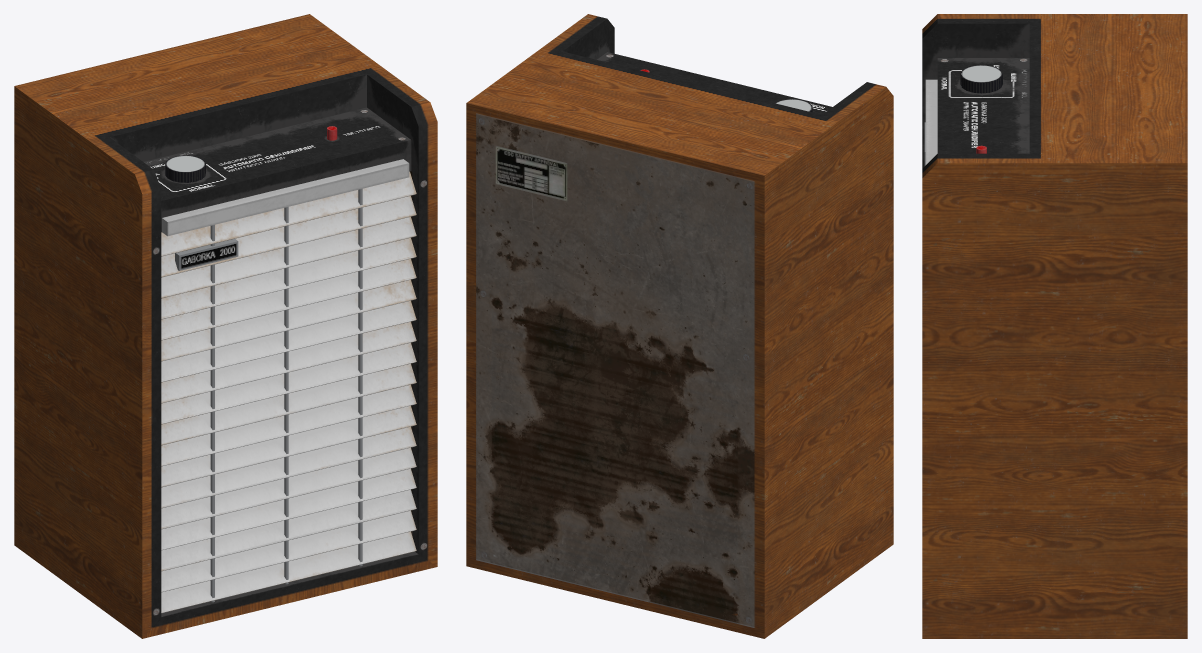
File: Dehumidifier.FBX
3 views of the same model, side by side, from view 1: azimuth 30°, elevation 25°; view 2: azimuth 150°, elevation 25°; view 3: azimuth 270°, elevation 25° (orthographic). The views are drawn at different scales.
Parts seen in each view (by area): view 1: Dehumidifier; view 2: Dehumidifier; view 3: Dehumidifier.
Part boxes in pixels (x1,y1,x2,y2): Dehumidifier: (14, 14, 437, 638); Dehumidifier: (466, 14, 893, 638); Dehumidifier: (922, 14, 1187, 638).
Size of the model in its own units: 60 by 45 by 89.09.
